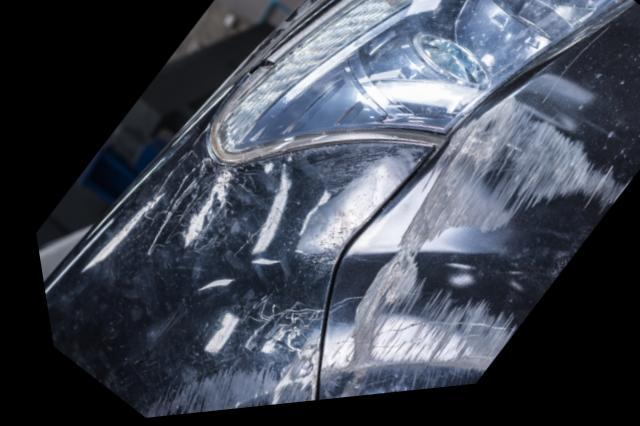scratch: (302, 97, 625, 406), (117, 356, 303, 419)
